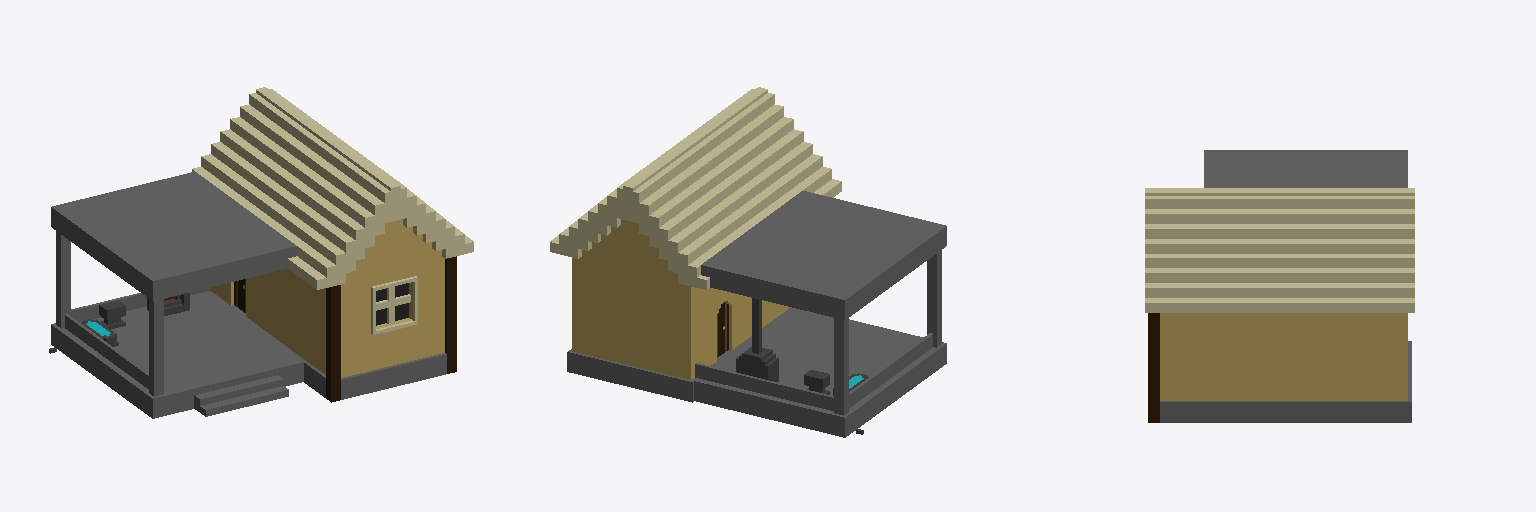
3 renders of one model, left to right at view 1: azimuth 30°, elevation 25°; view 2: azimuth 150°, elevation 25°; view 3: azimuth 270°, elevation 25°, orthographic.
Visible parts, largest first — view 1: object 1; view 2: object 1; view 3: object 1.
Part boxes in pixels (left/top/right/bottom): object 1: left=49, top=87, right=473, bottom=418; object 1: left=550, top=87, right=946, bottom=437; object 1: left=1145, top=150, right=1414, bottom=422.
Bounding box in the file's own units: 9.4 × 6 × 7.3.
Materials: 1 (1 with a texture image).